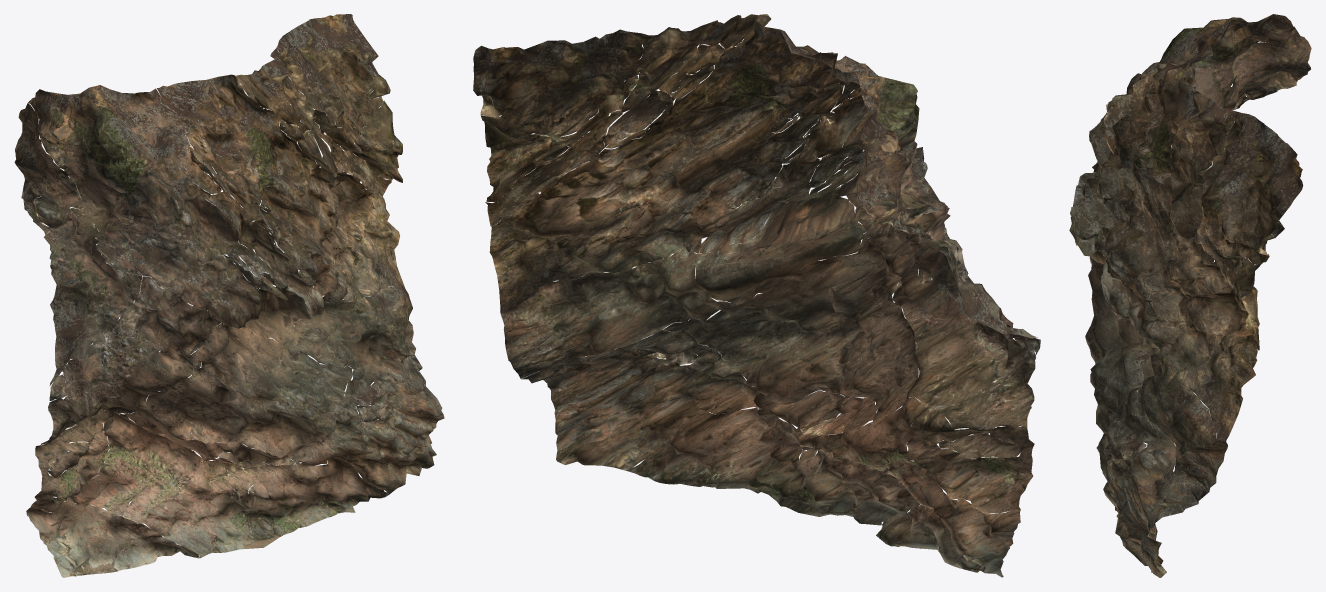
The model's file is mountainside_LOD1.fbx.
3 views of the same model, side by side, from view 1: azimuth 30°, elevation 25°; view 2: azimuth 150°, elevation 25°; view 3: azimuth 270°, elevation 25° (orthographic). The views are drawn at different scales.
Parts seen in each view (by area): view 1: mountainside.001; view 2: mountainside.001; view 3: mountainside.001.
Part boxes in pixels (bbox=[...]): mountainside.001: bbox=[14, 14, 444, 577]; mountainside.001: bbox=[473, 14, 1040, 577]; mountainside.001: bbox=[1069, 14, 1311, 577].
Bounding box in the file's own units: 10.21 × 10.53 × 5.27.
Materials: 1 (1 with a texture image).
